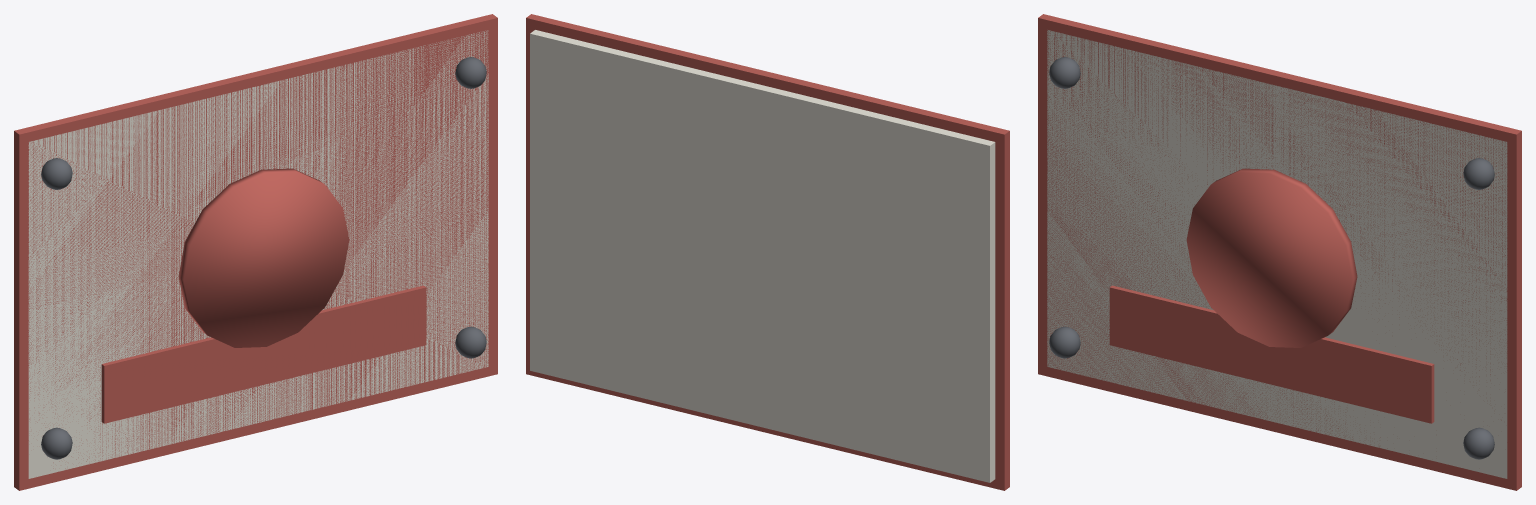
Rendered from prop_kanban_horo_a.glb.
3 views of the same model, side by side, from view 1: azimuth 30°, elevation 25°; view 2: azimuth 150°, elevation 25°; view 3: azimuth 330°, elevation 25° (orthographic).
Parts seen in each view (by area): view 1: kanban_horo_a; view 2: kanban_horo_a; view 3: kanban_horo_a.
Part boxes in pixels (bbox=[...]): kanban_horo_a: bbox=[14, 14, 497, 490]; kanban_horo_a: bbox=[526, 14, 1009, 490]; kanban_horo_a: bbox=[1038, 14, 1521, 490].
Bounding box in the file's own units: 1.04 × 0.74 × 0.09.
